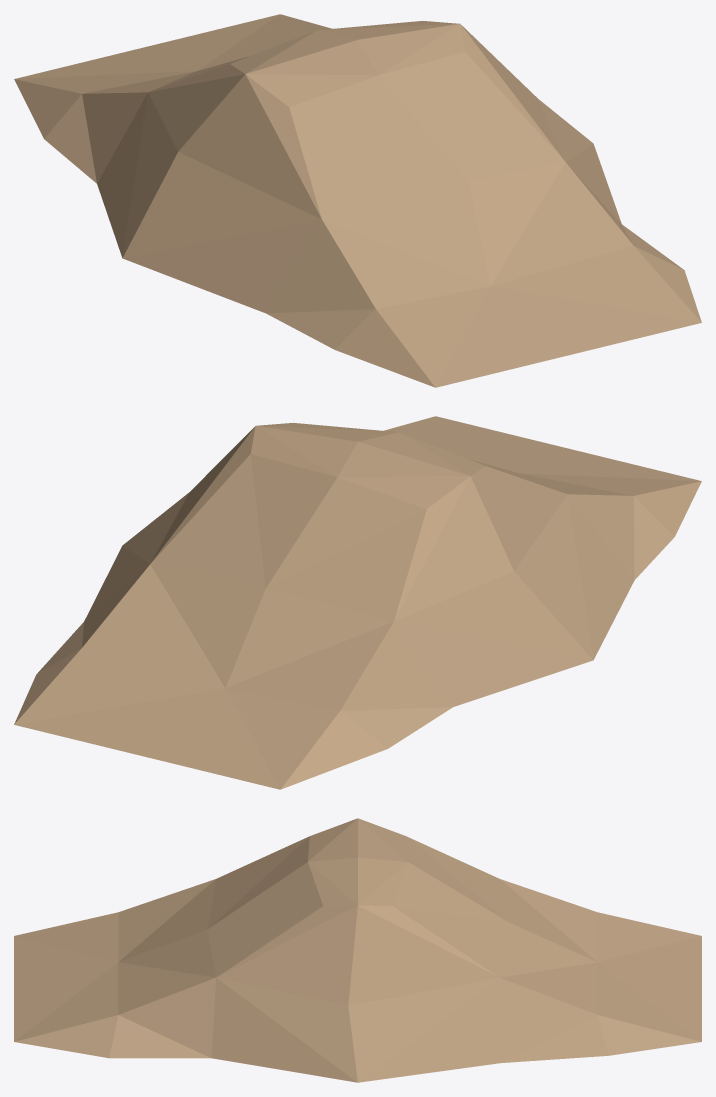
Rendered from mountn.glb.
3 renders of one model, top to bottom at view 1: azimuth 30°, elevation 25°; view 2: azimuth 150°, elevation 25°; view 3: azimuth 270°, elevation 25°, orthographic. The views are drawn at different scales.
Parts seen in each view (by area): view 1: mountn; view 2: mountn; view 3: mountn.
Part boxes in pixels (x1=…): mountn: x1=14, y1=14, x2=701, y2=387; mountn: x1=14, y1=416, x2=701, y2=789; mountn: x1=14, y1=818, x2=701, y2=1082.
Size of the model in its own units: 46 by 15.04 by 71.32.
